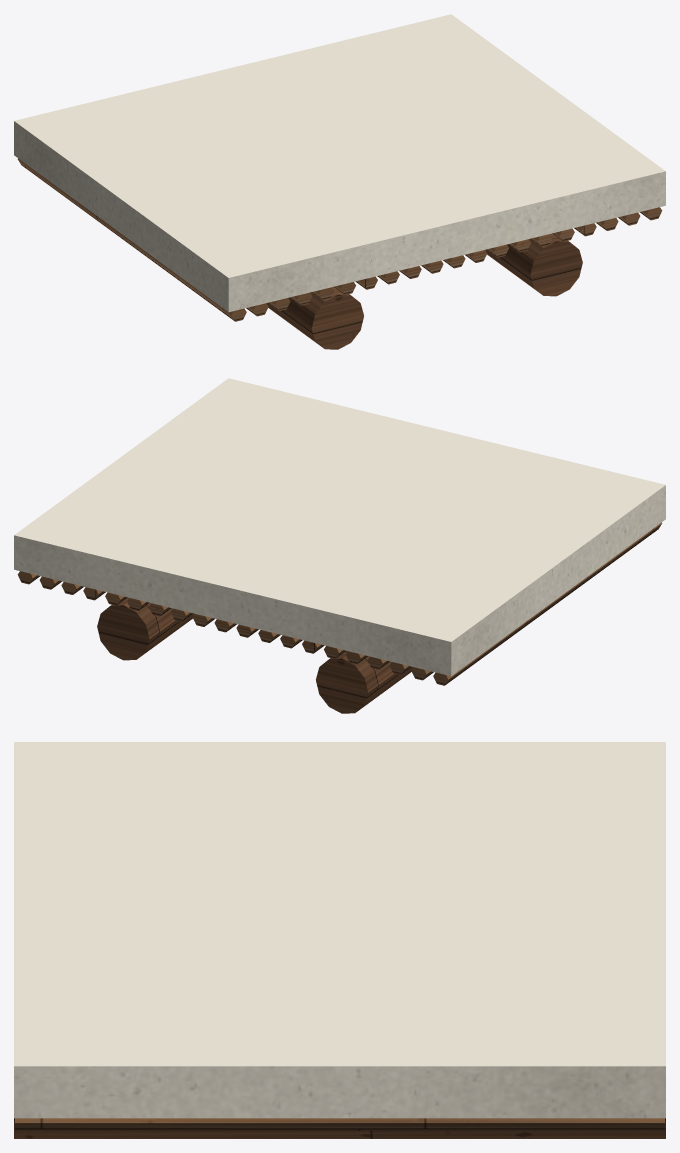
Rendered from m_ceiling_e0001.glb.
3 renders of one model, top to bottom at view 1: azimuth 30°, elevation 25°; view 2: azimuth 150°, elevation 25°; view 3: azimuth 270°, elevation 25°, orthographic. The views are drawn at different scales.
Parts seen in each view (by area): view 1: m_ceiling_e0001_plaster, m_ceiling_e0001_wood, m_ceiling_e0001_planks; view 2: m_ceiling_e0001_plaster, m_ceiling_e0001_wood, m_ceiling_e0001_planks; view 3: m_ceiling_e0001_plaster, m_ceiling_e0001_planks, m_ceiling_e0001_wood.
Part boxes in pixels (x1,y1,x2,y2): m_ceiling_e0001_plaster: (14, 14, 665, 312); m_ceiling_e0001_wood: (266, 233, 582, 349); m_ceiling_e0001_planks: (17, 158, 662, 321); m_ceiling_e0001_plaster: (14, 378, 665, 676); m_ceiling_e0001_wood: (97, 597, 413, 713); m_ceiling_e0001_planks: (17, 522, 662, 685); m_ceiling_e0001_plaster: (14, 742, 665, 1118); m_ceiling_e0001_planks: (15, 1118, 664, 1130); m_ceiling_e0001_wood: (14, 1118, 665, 1138).
Bounding box in the file's own units: 2 × 0.43 × 1.7.
Materials: 3 (3 with a texture image).
